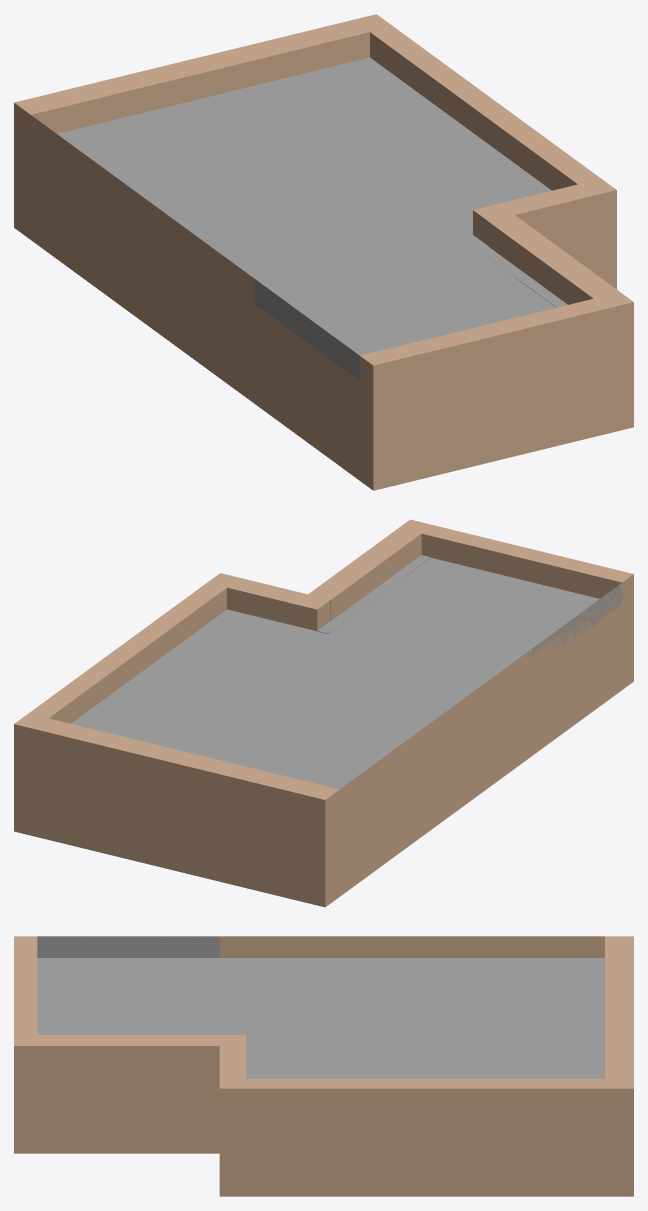
Rendered from garden2.fbx.
3 renders of one model, top to bottom at view 1: azimuth 30°, elevation 25°; view 2: azimuth 150°, elevation 25°; view 3: azimuth 270°, elevation 25°, orthographic. The views are drawn at different scales.
Parts seen in each view (by area): view 1: Cube; view 2: Cube; view 3: Cube.
Boxes of the visible parts, <box> form: Cube: <box>14,14,633,490</box>; Cube: <box>14,519,633,907</box>; Cube: <box>14,936,633,1196</box>.
Bounding box in the file's own units: 76.62 × 25.27 × 132.
